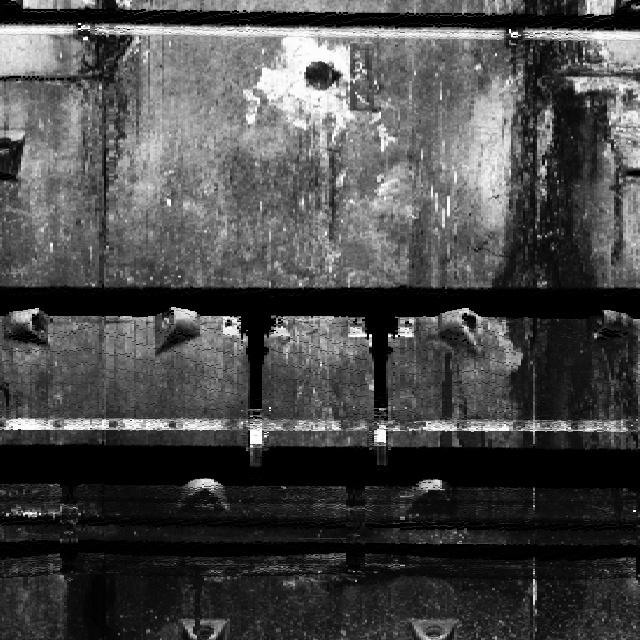leakage: (462, 0, 639, 639), (52, 480, 190, 639)
